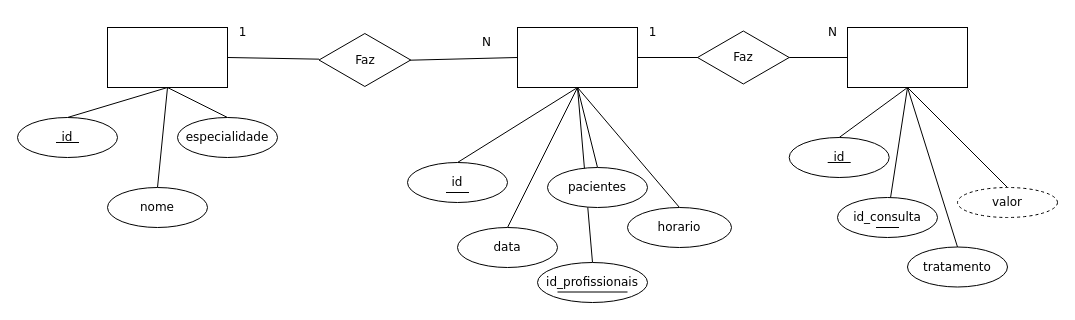
The diagram is 1075 pixels wide and 320 high, and some of its shapes have lost their labels. The shapes that lost their labels are listed below. From the top down, each one's centre as x and y in pixels, then its label:
At point 167,57: "profissionais".
At point 577,57: "consultas".
At point 907,57: "tratamentos".
